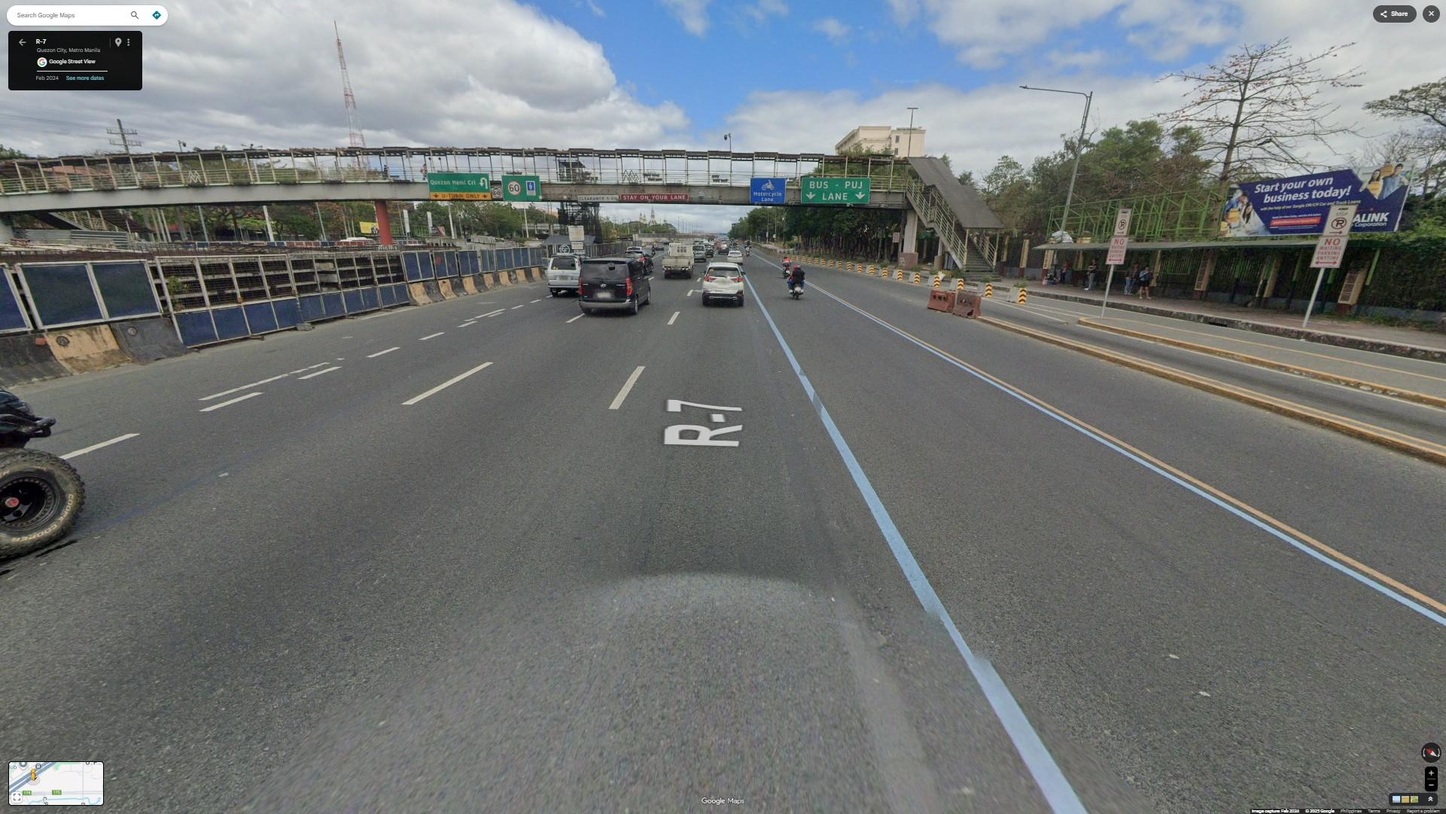pedestrian: (1123, 261, 1140, 296), (1083, 257, 1099, 292), (1138, 265, 1154, 300), (1058, 258, 1070, 286), (419, 162, 430, 184), (382, 163, 389, 183)
